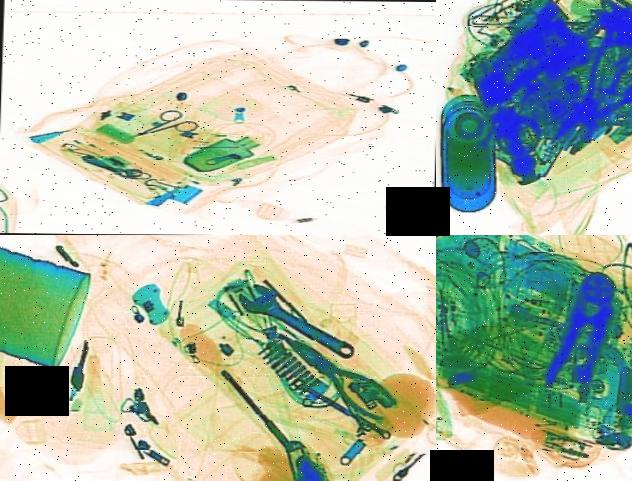Pliers: (538, 5, 632, 167), (270, 327, 412, 423), (546, 265, 628, 395)
Scissors: (118, 106, 204, 148)
Wrench: (228, 278, 372, 363)
